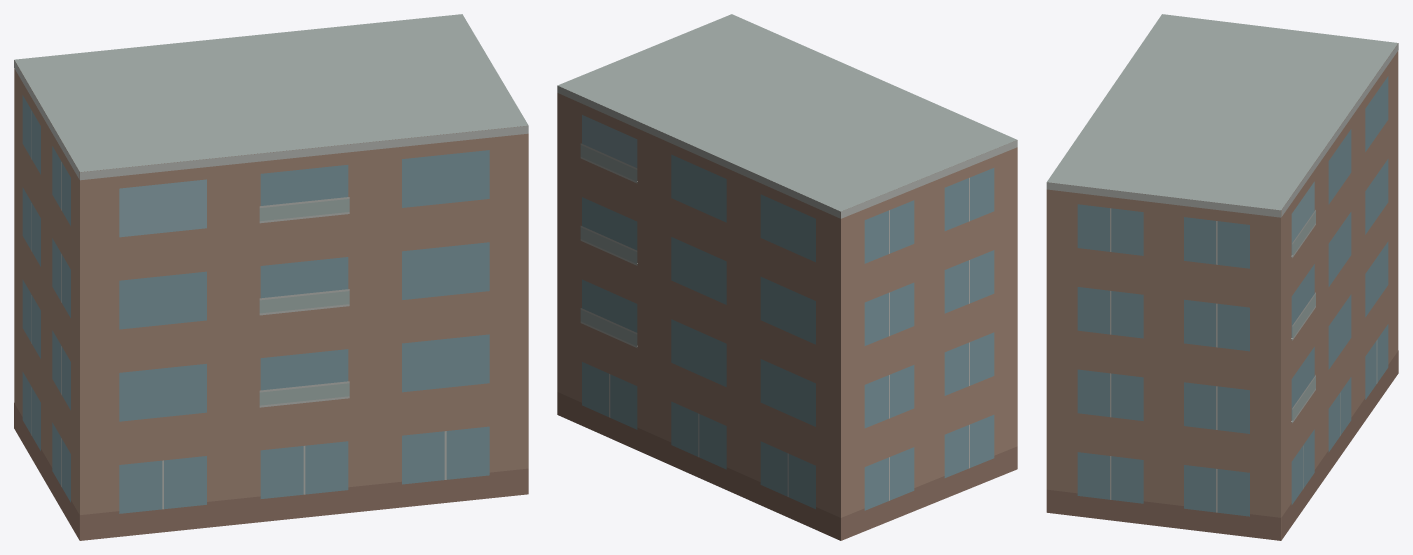
The model's file is survey-upis-32946321.glb.
3 views of the same model, side by side, from view 1: azimuth 30°, elevation 25°; view 2: azimuth 150°, elevation 25°; view 3: azimuth 270°, elevation 25° (orthographic). The views are drawn at different scales.
Parts seen in each view (by area): view 1: survey-upis-32946321.tmp; view 2: survey-upis-32946321.tmp; view 3: survey-upis-32946321.tmp.
Part boxes in pixels (x1,y1,x2,y2): survey-upis-32946321.tmp: (14, 14, 528, 540); survey-upis-32946321.tmp: (557, 14, 1017, 540); survey-upis-32946321.tmp: (1046, 14, 1398, 540).
Bounding box in the file's own units: 14.16 × 11.1 × 10.72.
